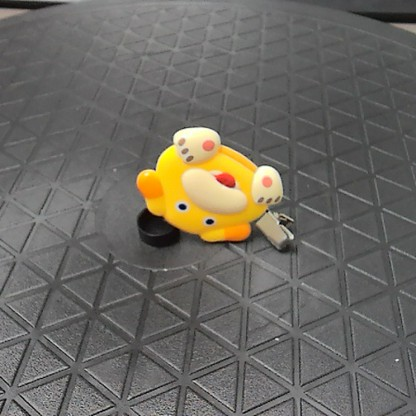dogclip: (134, 123, 296, 251)
